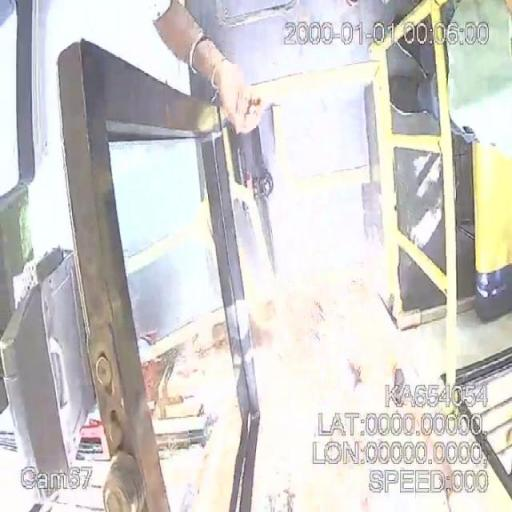persona: (151, 0, 264, 136)
